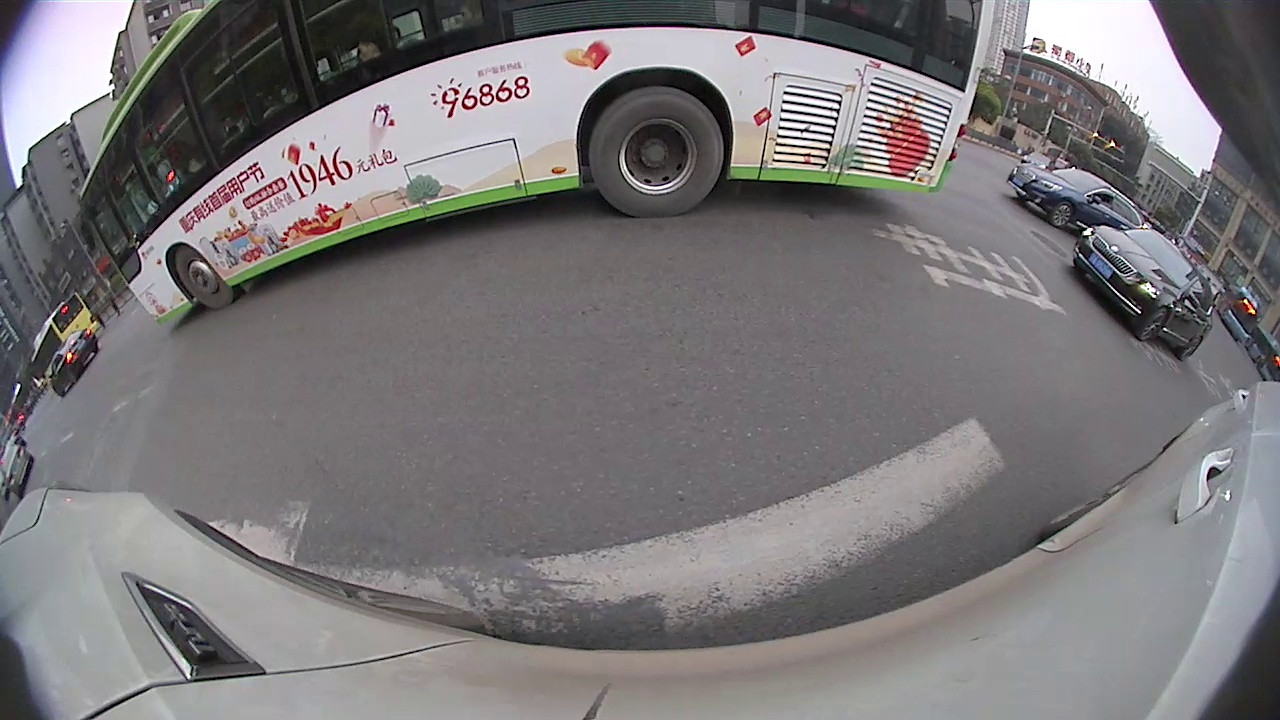bus: (75, 1, 987, 339)
car: (1070, 224, 1215, 362), (1008, 162, 1148, 233), (22, 290, 104, 404), (47, 324, 100, 398)
front: (170, 240, 240, 312), (1135, 308, 1171, 343), (1046, 202, 1076, 226)
rear: (584, 80, 728, 222)
